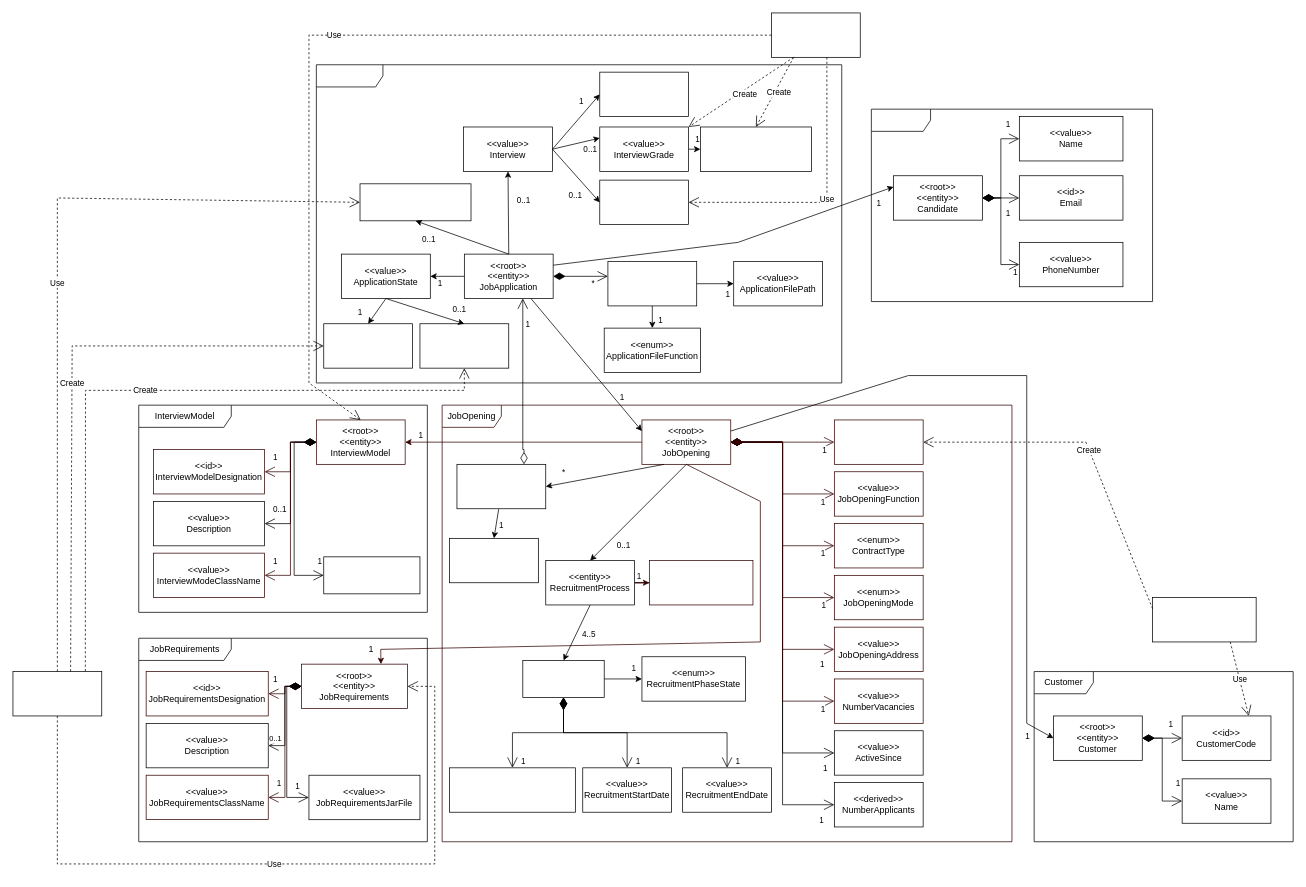
Image size: 1306x887. Some labels were removed from this diagram. The box of each missing label's shape, as (x1, y1, x2, y2) in pixels:
<<entity>> Rank: (456, 464, 546, 509)
<<entity>> RecruitmentPhase: (522, 660, 604, 697)
<<enum>> ApplicationStateName: (323, 323, 413, 368)
<<enum>> CurrentPhase: (649, 560, 753, 605)
<<enum>> RecruitmentPhaseDesignation: (449, 767, 575, 812)
<<id>> JobReference: (834, 419, 923, 464)
<<service>> InterviewEvaluator: (771, 12, 860, 57)
<<service>> JobReferenceGenerator: (1152, 597, 1256, 642)
<<service>> ReqEvaluation: (12, 671, 102, 716)
<<value>> ApplicationFile: (607, 261, 697, 306)
<<value>> InterviewAnswers: (599, 179, 689, 225)
<<value>> InterviewGradeJustification: (700, 126, 811, 171)
<<value>> InterviewModelJarFile: (323, 556, 420, 594)
<<value>> InterviewTimeDate: (599, 71, 689, 117)
<<value>> JobRequirements Answers: (359, 183, 471, 221)
<<value>> Position: (449, 538, 538, 583)
<<value>> RejectionJustification: (419, 323, 509, 368)
Candidate: (871, 108, 1153, 302)
JobApplication: (316, 64, 842, 383)
